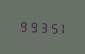five: (45, 20, 53, 34)
nine: (18, 18, 26, 33), (27, 19, 35, 33)
one: (54, 20, 62, 35)
three: (36, 19, 44, 34)
